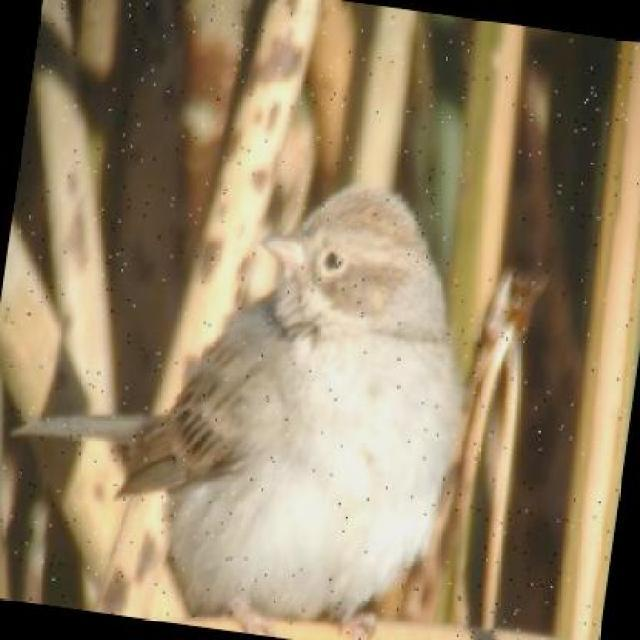Bird: (123, 189, 481, 612)
